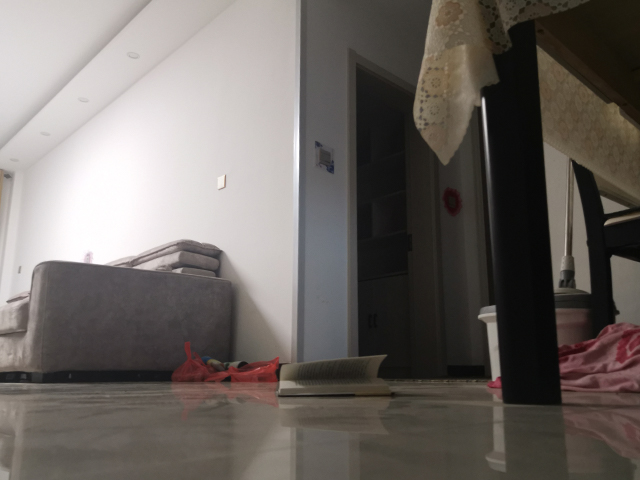book: (275, 350, 398, 400)
cabinet: (360, 164, 417, 377)
sofa: (1, 237, 236, 385)
table: (458, 1, 640, 408)
